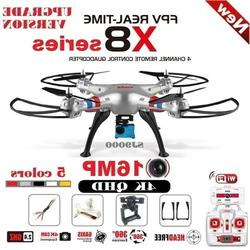drone: (10, 69, 240, 157)
